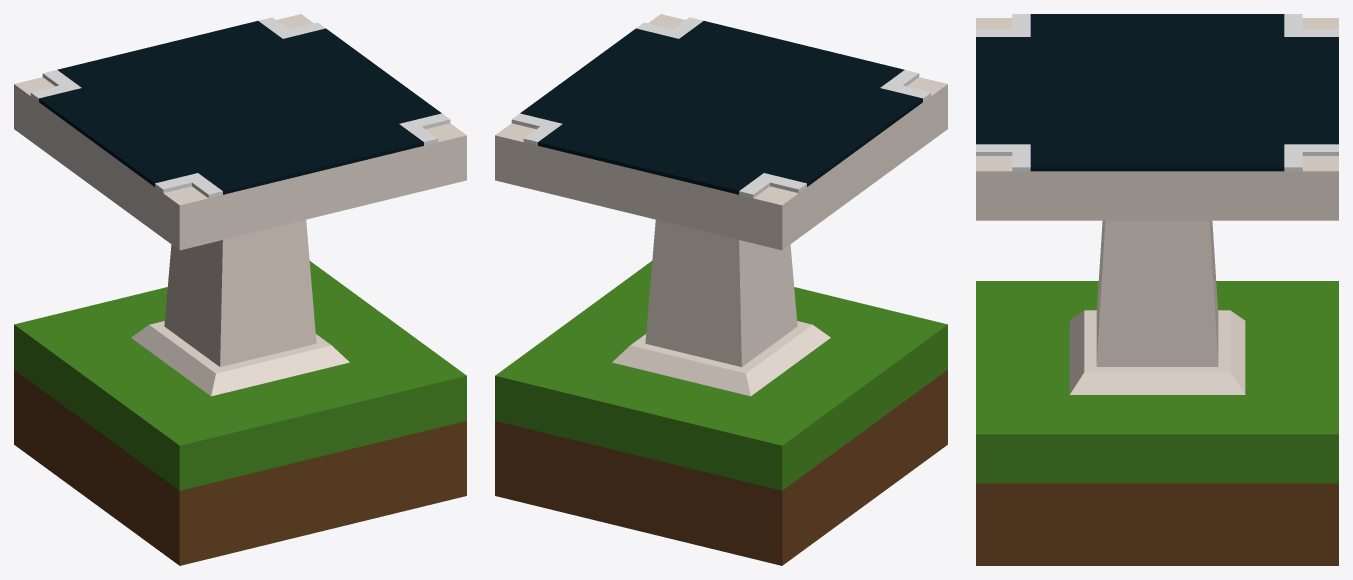
The model's file is High_X_Road.fbx.
3 renders of one model, left to right at view 1: azimuth 30°, elevation 25°; view 2: azimuth 150°, elevation 25°; view 3: azimuth 270°, elevation 25°, orthographic. The views are drawn at different scales.
Parts seen in each view (by area): view 1: Base.011, Pavement.011, Tunnel Base.005; view 2: Base.011, Pavement.011, Tunnel Base.005; view 3: Base.011, Pavement.011, Tunnel Base.005.
Boxes of the visible parts, x1,y1,x2,y2 form: Base.011: [14, 261, 466, 565]; Pavement.011: [30, 17, 450, 198]; Tunnel Base.005: [14, 14, 466, 396]; Base.011: [495, 261, 947, 565]; Pavement.011: [511, 17, 931, 198]; Tunnel Base.005: [495, 14, 947, 396]; Base.011: [976, 281, 1338, 565]; Pavement.011: [976, 14, 1338, 171]; Tunnel Base.005: [976, 18, 1338, 394].
Size of the model in its own units: 200 by 242 by 200.
